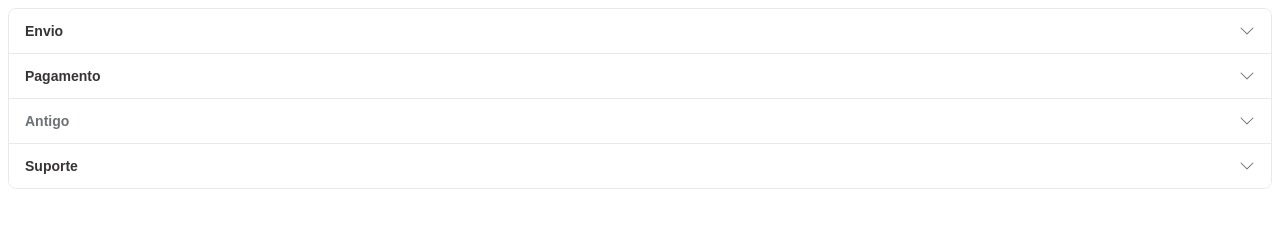
Test: Accordion › abre ao clicar e mostra o conteudo
Click the button "Envio" at (44, 31), box x1=9 y1=9 x2=1271 y2=53
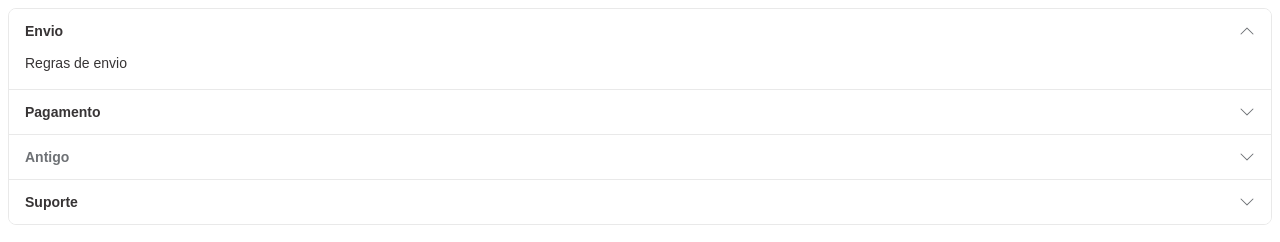
Now the button "Envio" is expanded, box x1=9 y1=9 x2=1271 y2=53
Now the text "Regras de envio" is shown, box x1=9 y1=53 x2=1271 y2=89
